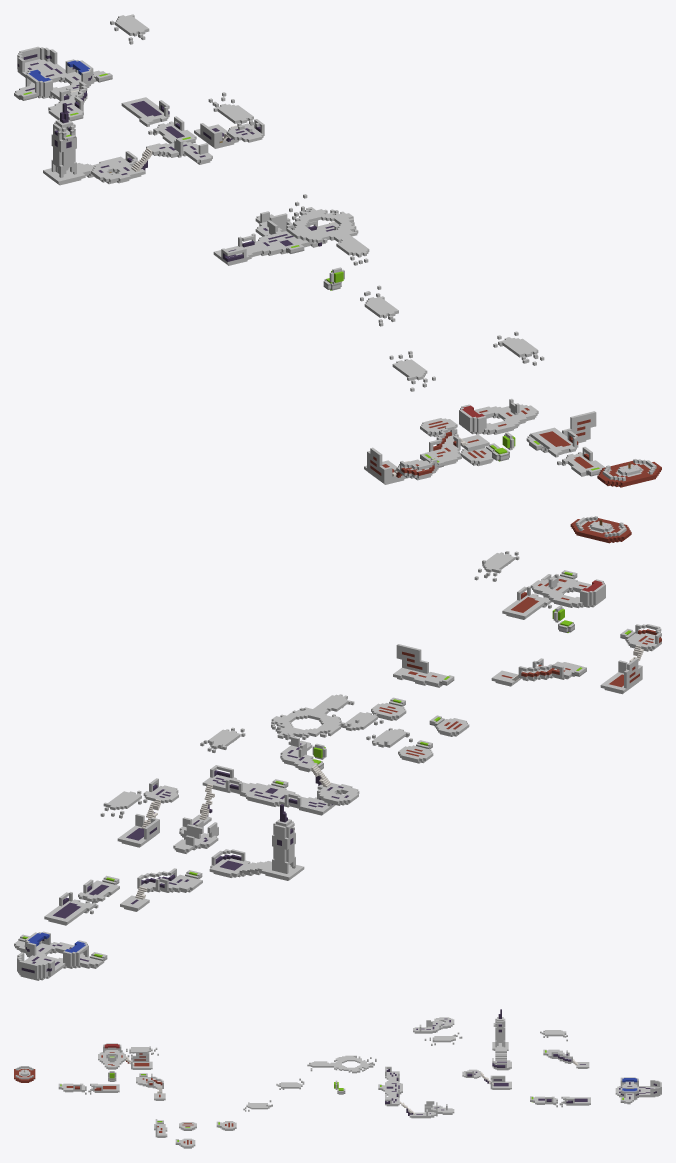
File: minecraft.obj
The picture shows the model from 3 angles, top to bottom: view 1: azimuth 30°, elevation 25°; view 2: azimuth 150°, elevation 25°; view 3: azimuth 270°, elevation 25°; orthographic projection. The views are drawn at different scales.
Bounding box in the file's own units: 87 × 64 × 393.
